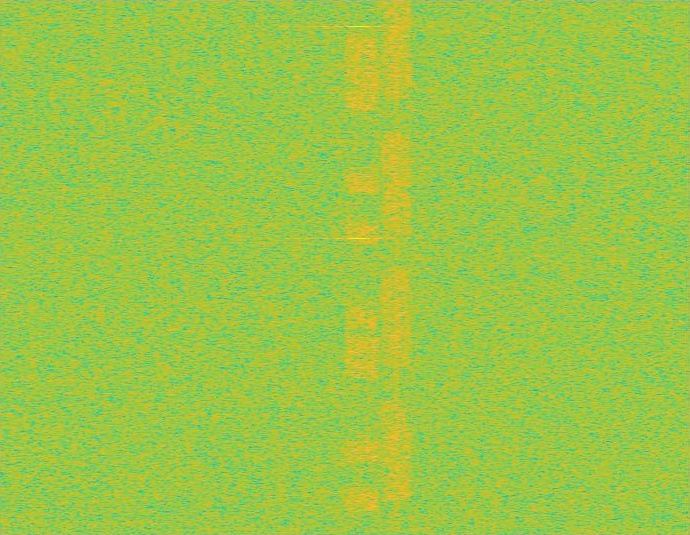5G: (380, 0, 414, 534)
DSSS: (394, 0, 399, 534)
LTE: (345, 0, 380, 534)
Radar: (352, 0, 365, 534)
